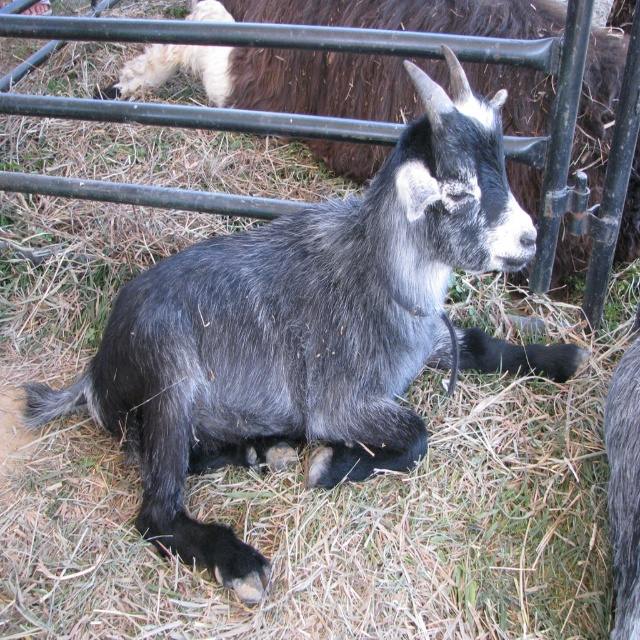Goat: (27, 42, 586, 610)
